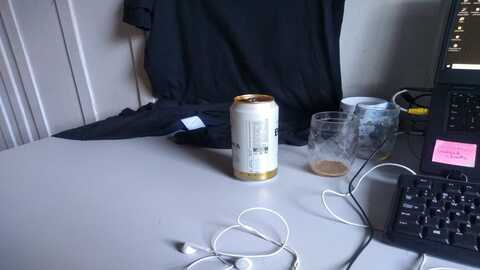bohemia: (227, 96, 284, 181)
